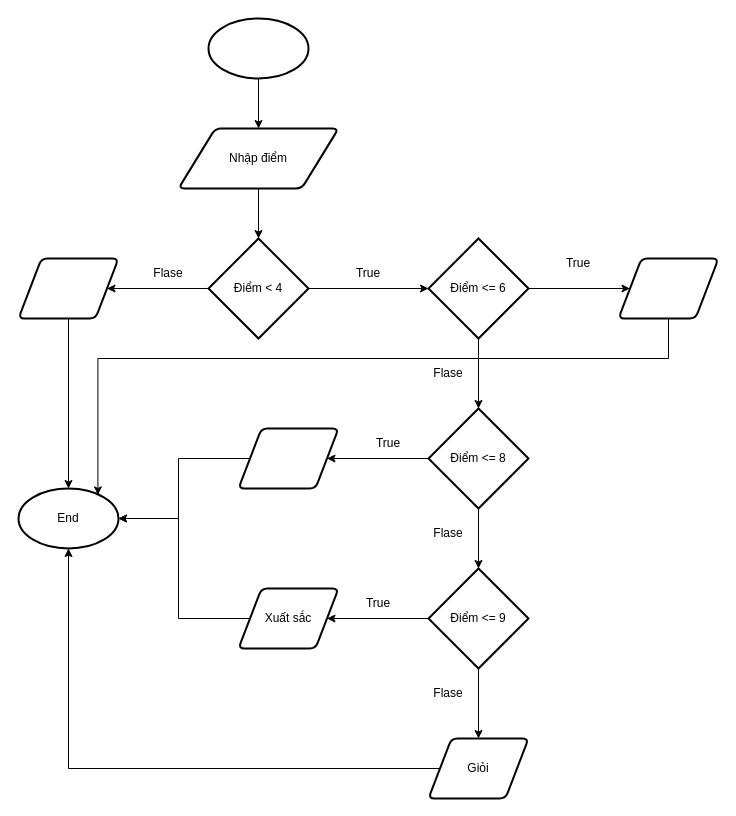
Some shapes in this 736 by 816 pixel diagram are drawn without their labels. The shapes that lost their labels are listed below. From the top down, each one's box as (x1, y1, x2, y2) in pixels, then its label:
(207, 17, 309, 79): Start
(17, 257, 119, 319): Không đạt
(617, 257, 719, 319): Trung bình
(237, 427, 339, 489): Khá
